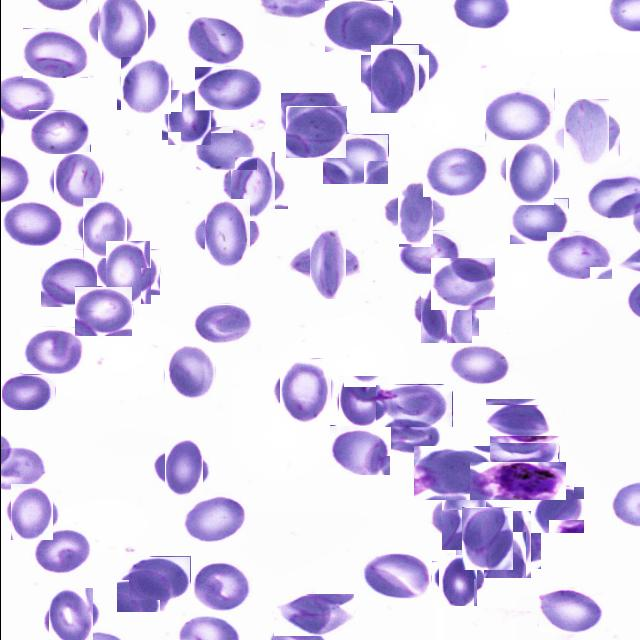red blood cell: (413, 446, 494, 500), (484, 88, 554, 142), (422, 144, 491, 197), (91, 0, 153, 56), (324, 1, 392, 52), (276, 362, 334, 420), (416, 282, 474, 340), (458, 510, 516, 568), (360, 552, 430, 600), (273, 594, 353, 636), (430, 258, 494, 310), (375, 384, 452, 427), (198, 205, 255, 263), (478, 516, 535, 574), (365, 51, 423, 108), (22, 28, 88, 78), (322, 134, 388, 184), (224, 158, 281, 215), (500, 144, 558, 200), (278, 93, 344, 142), (285, 106, 346, 158), (546, 231, 612, 279), (299, 234, 355, 290), (558, 105, 614, 161), (194, 67, 265, 111), (192, 560, 252, 612), (538, 587, 603, 634), (329, 426, 390, 476), (30, 530, 94, 577), (20, 327, 84, 374), (184, 17, 245, 66), (183, 494, 245, 542), (100, 246, 155, 300), (40, 257, 99, 307), (162, 346, 216, 400), (436, 490, 490, 544), (74, 286, 132, 336), (118, 59, 172, 112), (398, 230, 463, 274), (485, 398, 551, 441), (375, 44, 439, 88), (2, 202, 65, 246), (51, 154, 104, 206), (77, 202, 130, 254), (194, 126, 256, 170), (128, 556, 190, 600), (28, 110, 90, 154), (509, 198, 568, 244), (191, 304, 254, 346), (449, 343, 511, 385), (45, 591, 97, 640), (530, 486, 584, 533), (116, 567, 172, 612), (389, 188, 439, 238), (6, 487, 55, 537), (379, 417, 441, 456), (164, 94, 214, 142), (488, 435, 558, 469), (158, 444, 207, 492), (337, 377, 385, 425), (434, 558, 480, 602), (1, 374, 55, 410)
trophozoite: (469, 462, 565, 500)
